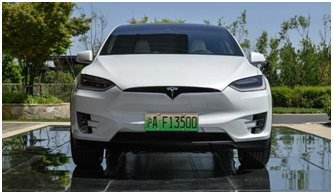plate: (138, 105, 204, 137)
